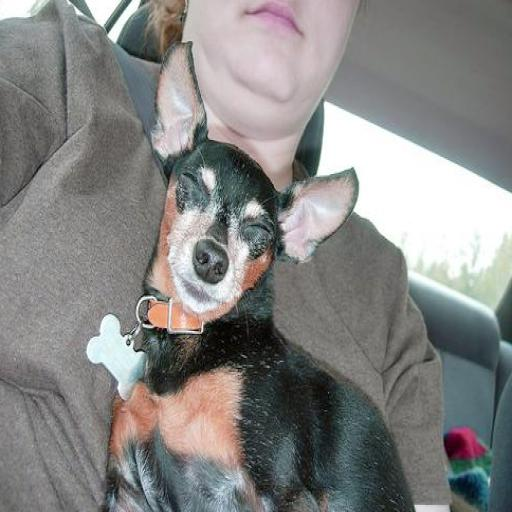dog_face: (153, 55, 366, 340)
